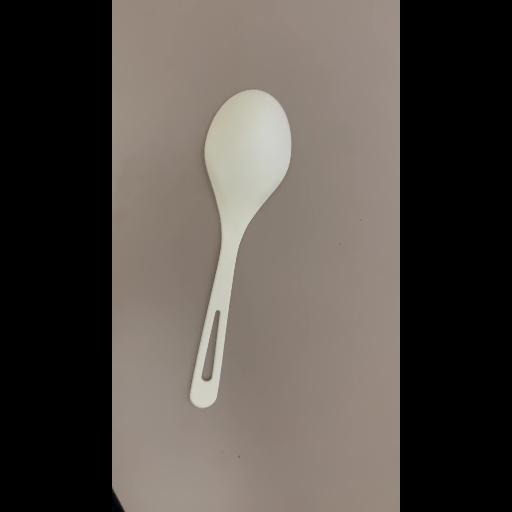utensil: (180, 79, 332, 411)
